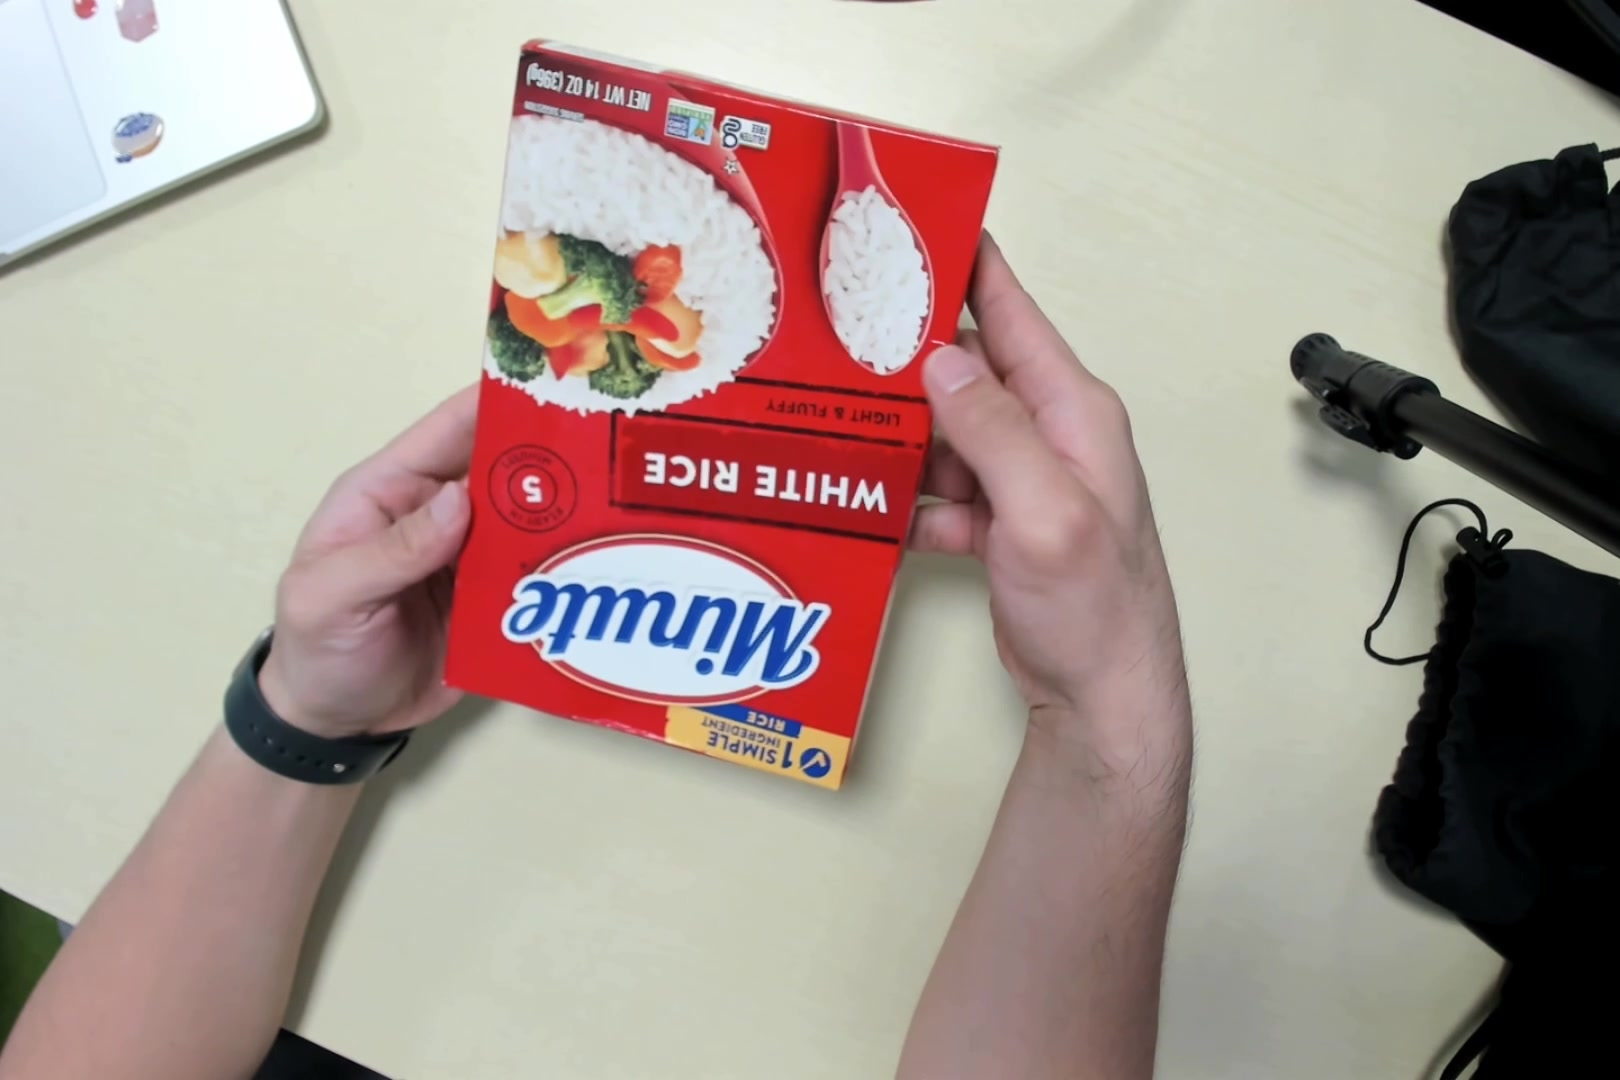Rice(White)_300-399g_NonHalal_NonHealthy: (459, 31, 999, 794)
